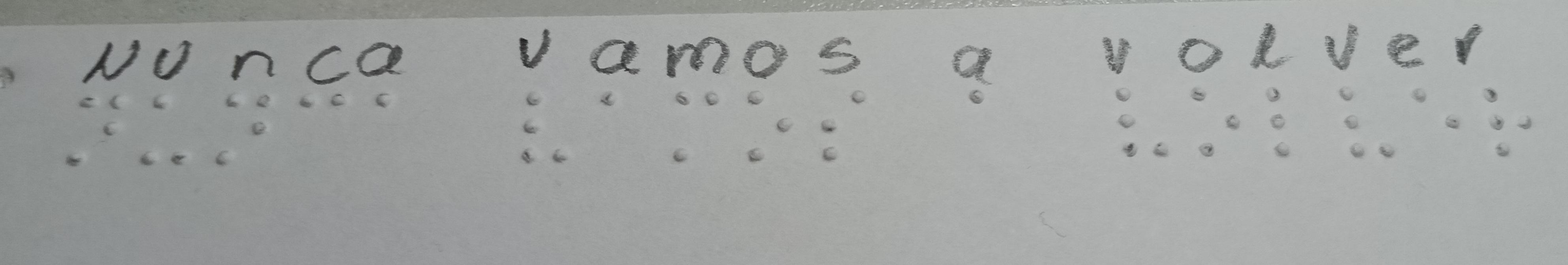a: (571, 79, 642, 128), (939, 85, 1014, 120), (356, 83, 413, 124)
c: (275, 83, 352, 154)
e: (1407, 83, 1466, 132)
l: (1263, 79, 1308, 174)
m: (650, 83, 727, 168)
n: (57, 83, 138, 186), (207, 79, 281, 180)
o: (1180, 77, 1247, 162), (735, 87, 798, 168)
r: (1482, 83, 1541, 162)
s: (802, 87, 885, 172)
u: (142, 83, 202, 184)
v: (1322, 75, 1403, 172), (1093, 81, 1178, 170), (502, 83, 579, 180)
